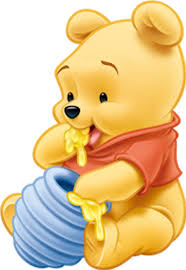Winnie: (47, 10, 183, 168)
